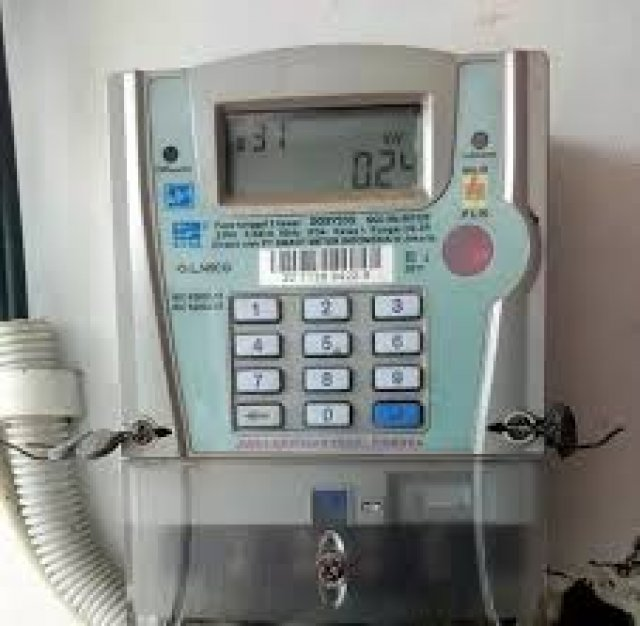box: (227, 109, 424, 193)
